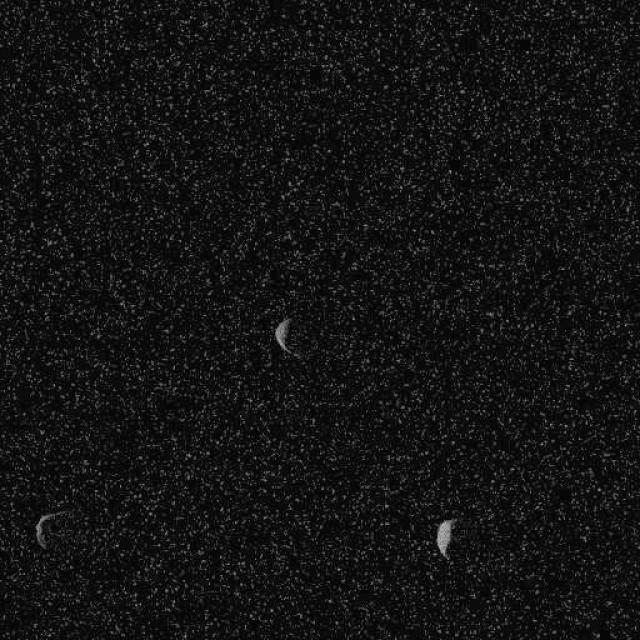D2: (34, 509, 74, 550), (272, 315, 298, 357), (435, 516, 456, 558)
